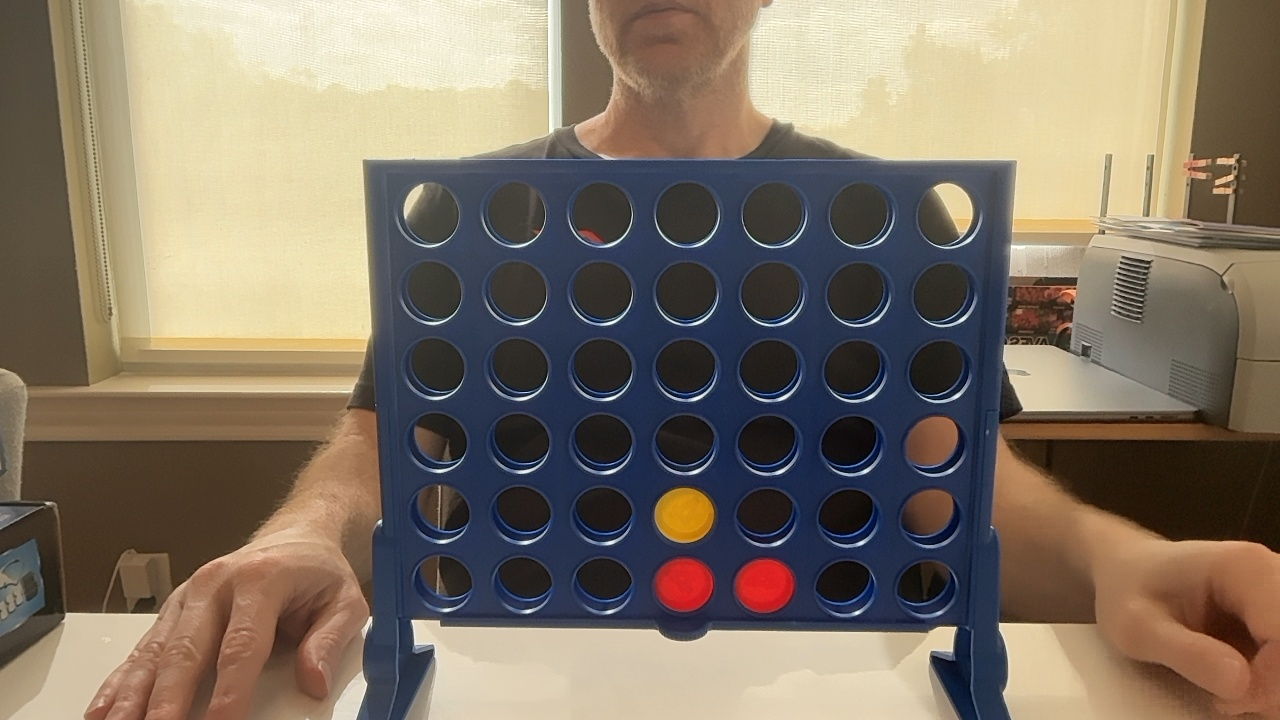red piece: (735, 558, 794, 613), (654, 558, 714, 612)
yellow piece: (654, 487, 714, 542)
